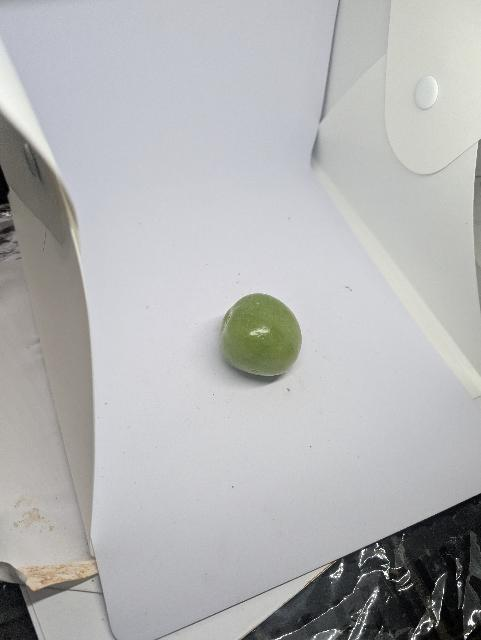green: (220, 292, 304, 381)
